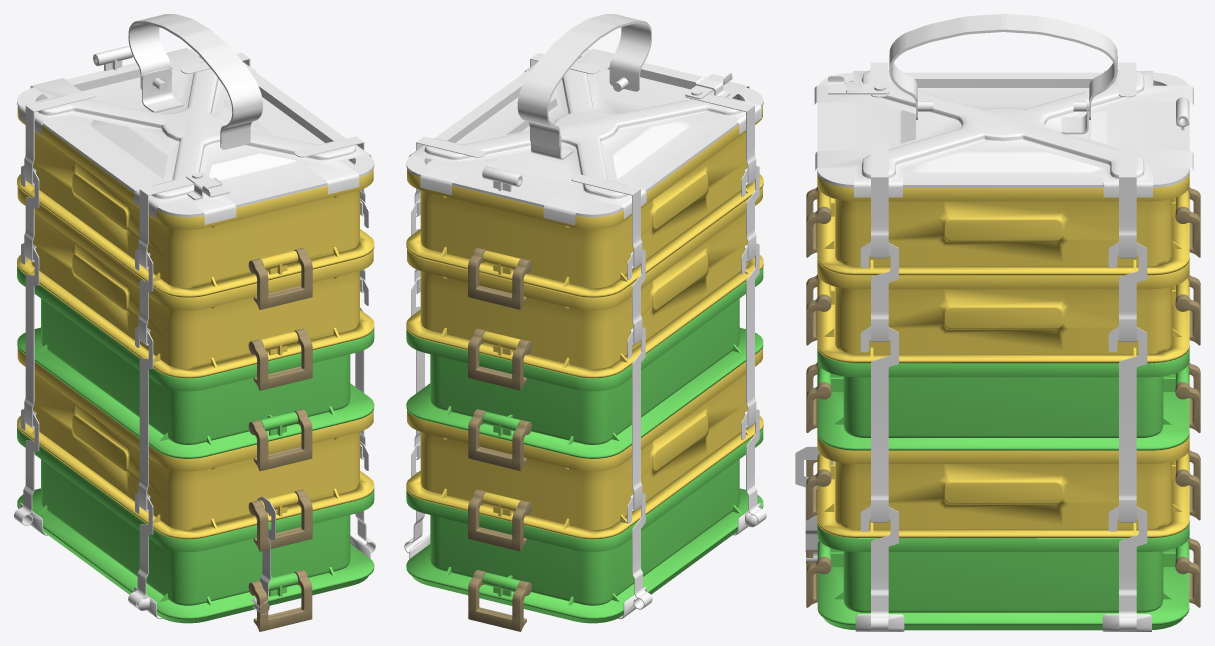
The model's file is 360-lunchbox.glb.
3 renders of one model, left to right at view 1: azimuth 30°, elevation 25°; view 2: azimuth 150°, elevation 25°; view 3: azimuth 270°, elevation 25°, orthographic. The views are drawn at different scales.
Visible parts, largest first — view 1: Cube.048, Cube.016, Cube.013, Plane.026, Plane.029, Cube.005, Cube.003, Cylinder.009, Plane, Plane.028, Plane.032, Plane.033 (+24 smaller); view 2: Cube.048, Cube.016, Cube.013, Plane.026, Plane.029, Cube.003, Cube.005, Cylinder.009, Plane, Plane.028, Plane.032, Plane.033 (+25 smaller); view 3: Plane.026, Cube.016, Cube.048, Cube.013, Plane.029, Cube.003, Cube.005, Plane, Cube.029, Plane.028, Cylinder.009, Plane.032 (+22 smaller).
Boxes of the visible parts, bbox=[...] form: Cube.048: bbox=[33, 132, 359, 288]; Cube.016: bbox=[31, 213, 359, 368]; Cube.013: bbox=[33, 374, 359, 529]; Plane.026: bbox=[17, 49, 374, 217]; Plane.029: bbox=[19, 48, 371, 224]; Cube.005: bbox=[41, 299, 350, 444]; Cube.003: bbox=[41, 459, 350, 605]; Cylinder.009: bbox=[128, 14, 262, 149]; Plane: bbox=[17, 488, 374, 623]; Plane.028: bbox=[17, 327, 374, 458]; Plane.032: bbox=[17, 266, 374, 391]; Plane.033: bbox=[17, 186, 373, 310]; Cube.048: bbox=[420, 132, 747, 288]; Cube.016: bbox=[420, 213, 749, 368]; Cube.013: bbox=[420, 374, 747, 529]; Plane.026: bbox=[406, 49, 763, 217]; Plane.029: bbox=[409, 49, 761, 225]; Cube.003: bbox=[430, 459, 739, 605]; Cube.005: bbox=[430, 299, 739, 444]; Cylinder.009: bbox=[517, 14, 651, 149]; Plane: bbox=[406, 488, 763, 623]; Plane.028: bbox=[406, 327, 763, 458]; Plane.032: bbox=[406, 266, 763, 391]; Plane.033: bbox=[407, 186, 762, 310]; Plane.026: bbox=[817, 72, 1189, 187]; Cube.016: bbox=[835, 286, 1171, 354]; Cube.048: bbox=[835, 199, 1171, 266]; Cube.013: bbox=[835, 461, 1171, 528]; Plane.029: bbox=[814, 70, 1193, 197]; Cube.003: bbox=[843, 551, 1163, 612]; Cube.005: bbox=[843, 376, 1163, 437]; Plane: bbox=[817, 548, 1189, 630]; Cube.029: bbox=[860, 326, 1147, 522]; Plane.028: bbox=[817, 373, 1189, 450]; Cylinder.009: bbox=[889, 14, 1117, 119]; Plane.032: bbox=[817, 348, 1189, 377].
Size of the model in its own units: 5.02 by 10.52 by 6.75.
